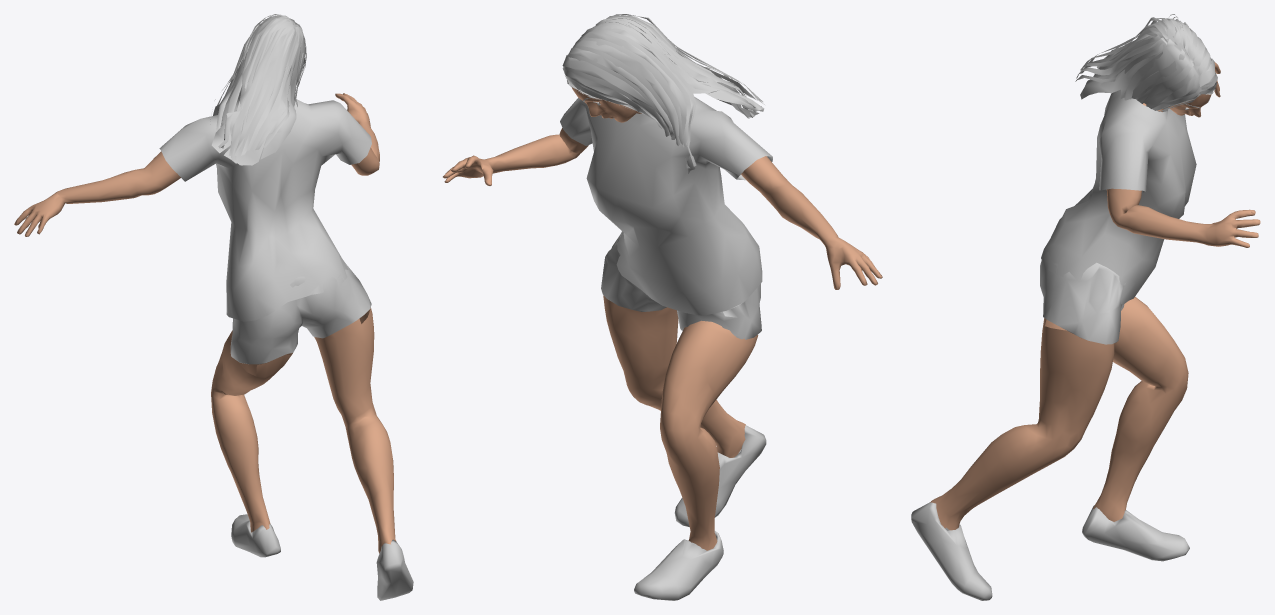
File: player2att_000020.obj
The picture shows the model from 3 angles, left to right: view 1: azimuth 30°, elevation 25°; view 2: azimuth 150°, elevation 25°; view 3: azimuth 270°, elevation 25°; orthographic projection. The views are drawn at different scales.
Visible parts, largest first — view 1: player2:tshirt02, player2:Body, player2:fhair01, player2:short01, player2:shoes02; view 2: player2:tshirt02, player2:Body, player2:fhair01, player2:shoes02, player2:short01; view 3: player2:Body, player2:tshirt02, player2:fhair01, player2:shoes02, player2:short01.
Part boxes in pixels (box(x1,y1,x2,y2)): player2:tshirt02: box(159, 99, 371, 321); player2:Body: box(14, 93, 395, 553); player2:fhair01: box(210, 14, 306, 165); player2:short01: box(230, 260, 371, 364); player2:shoes02: box(231, 514, 413, 600); player2:tshirt02: box(560, 97, 772, 315); player2:Body: box(443, 87, 882, 550); player2:fhair01: box(562, 14, 764, 173); player2:shoes02: box(634, 425, 766, 600); player2:short01: box(601, 231, 761, 339); player2:Body: box(930, 62, 1260, 530); player2:tshirt02: box(1041, 89, 1196, 304); player2:fhair01: box(1075, 14, 1217, 111); player2:shoes02: box(911, 502, 1189, 600); player2:short01: box(1040, 252, 1125, 344).
Size of the model in its own units: 11.45 by 15.7 by 8.79.
